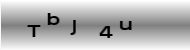4: (98, 24, 114, 39)
J: (68, 19, 79, 36)
T: (27, 24, 42, 38)
b: (46, 12, 61, 26)
u: (117, 19, 135, 32)
